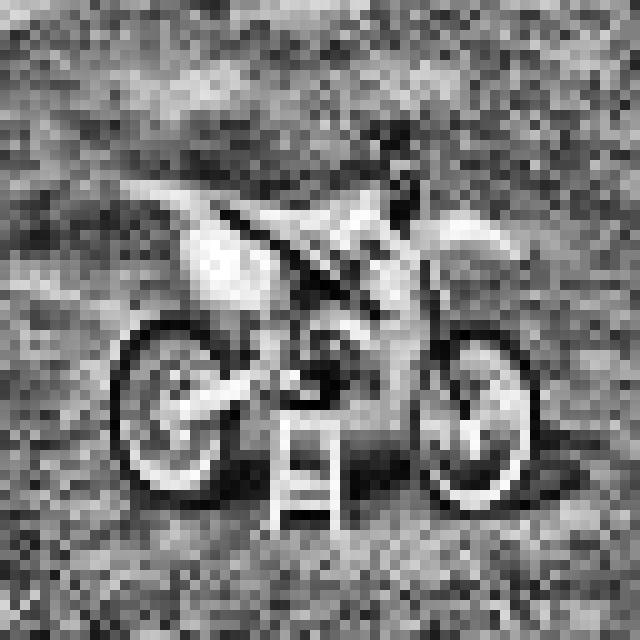mopeds: (98, 127, 553, 539)
